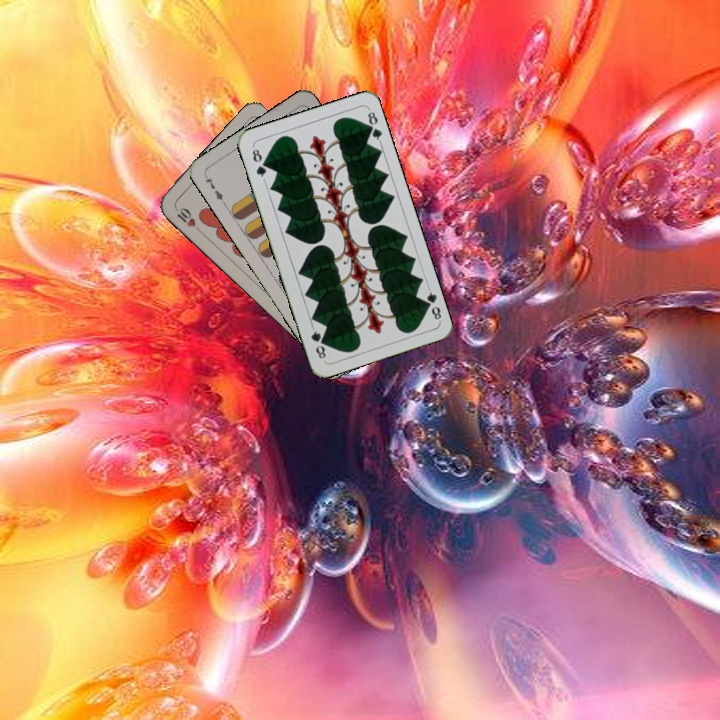E7: (201, 171, 228, 207)
G8: (419, 284, 444, 324), (248, 143, 269, 183)
H10: (171, 203, 204, 234)
